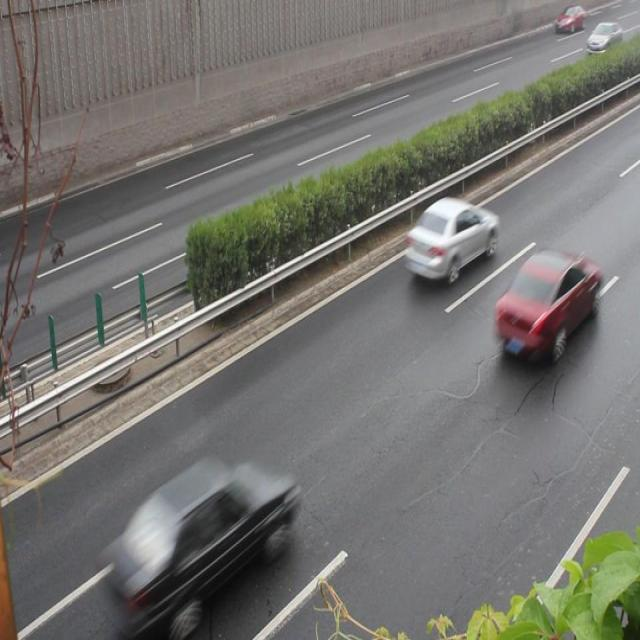car: (102, 460, 294, 613), (491, 249, 596, 364), (406, 198, 497, 286)
